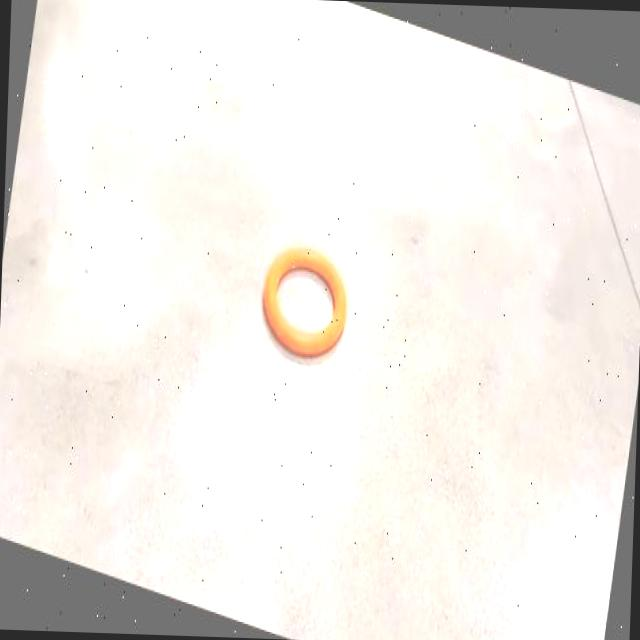note: (264, 244, 347, 355)
